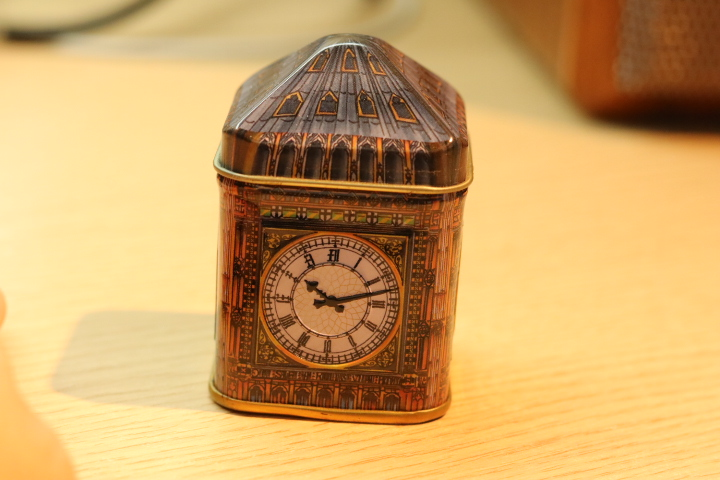Big Ben: (197, 28, 491, 443)
